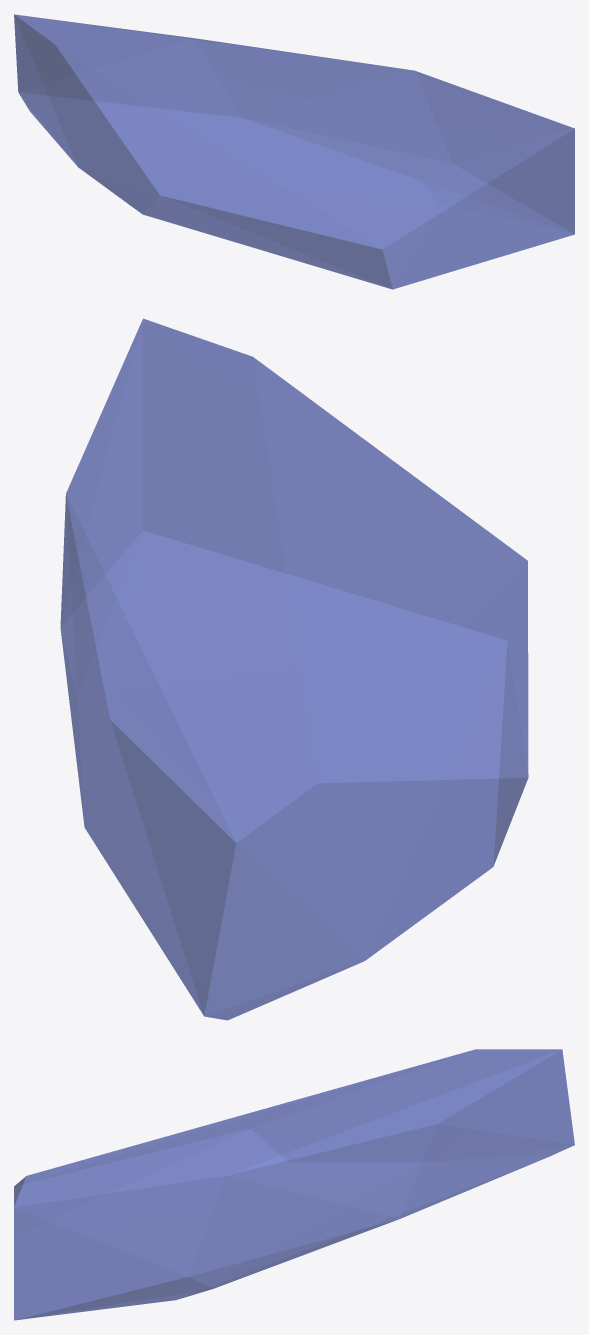
3 views of the same model, one above another, from view 1: azimuth 30°, elevation 25°; view 2: azimuth 150°, elevation 25°; view 3: azimuth 270°, elevation 25° (orthographic). The views are drawn at different scales.
Visible parts, largest first — view 1: Shape_IndexedFaceSet.049_Shape_IndexedFaceSet.4603; view 2: Shape_IndexedFaceSet.049_Shape_IndexedFaceSet.4603; view 3: Shape_IndexedFaceSet.049_Shape_IndexedFaceSet.4603.
Part boxes in pixels (box(x1,y1,x2,y2)): Shape_IndexedFaceSet.049_Shape_IndexedFaceSet.4603: box(14, 14, 574, 289); Shape_IndexedFaceSet.049_Shape_IndexedFaceSet.4603: box(60, 318, 528, 1020); Shape_IndexedFaceSet.049_Shape_IndexedFaceSet.4603: box(14, 1049, 574, 1320).
Bounding box in the file's own units: 0.0456 × 0.0167 × 0.0683.
